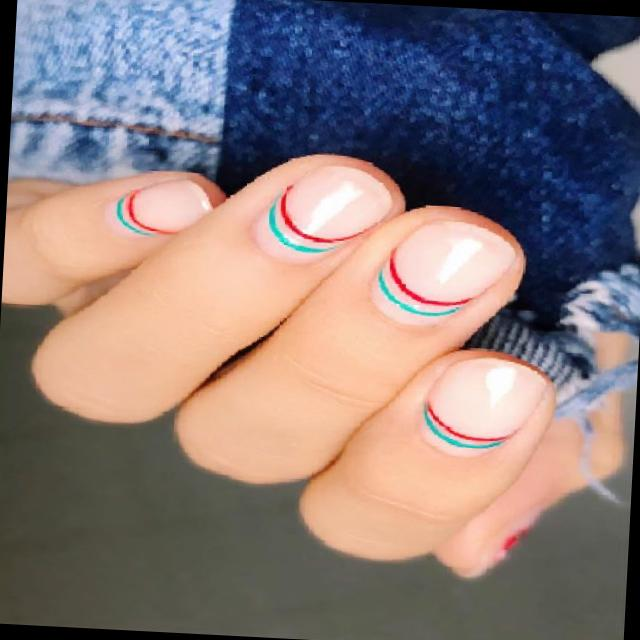Nail: (373, 219, 518, 324), (253, 165, 393, 261), (422, 354, 545, 454), (108, 179, 210, 235)
